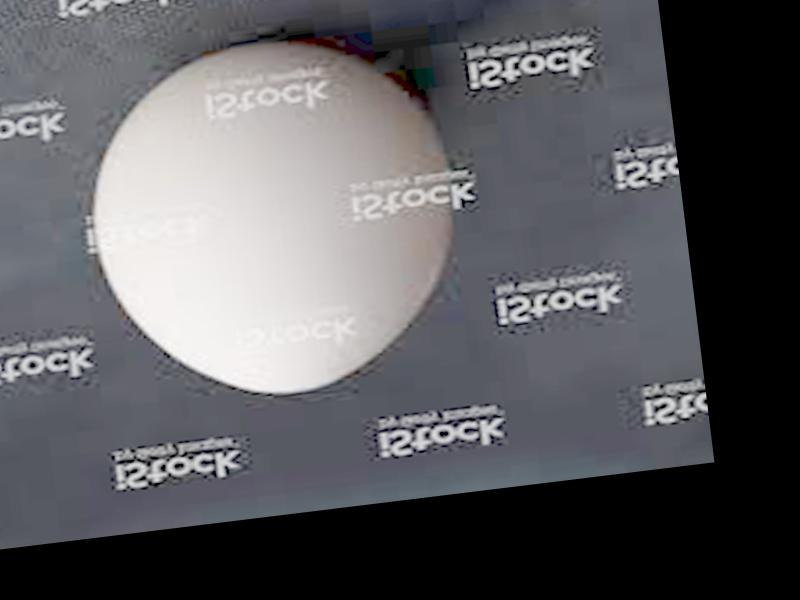Eggs: (75, 20, 474, 413)
